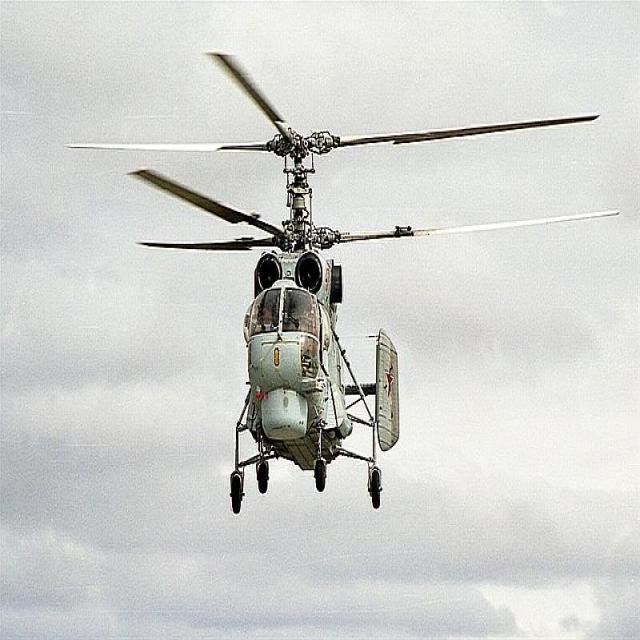MIL_HELO: (65, 48, 640, 520)
